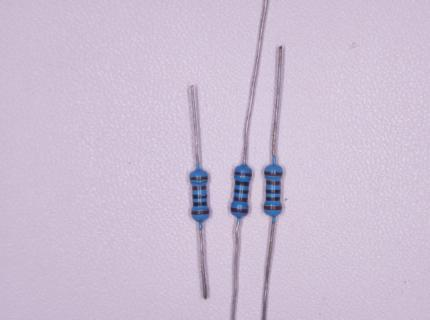Black band: (235, 180, 249, 186), (192, 194, 207, 199), (234, 189, 249, 194), (193, 202, 207, 206), (266, 189, 280, 193), (266, 197, 280, 201)
Brown band: (234, 171, 252, 177), (264, 171, 283, 176), (191, 210, 209, 215), (231, 208, 248, 213), (263, 206, 282, 210), (266, 180, 281, 185), (190, 176, 208, 180), (234, 197, 248, 202), (192, 185, 206, 190)
